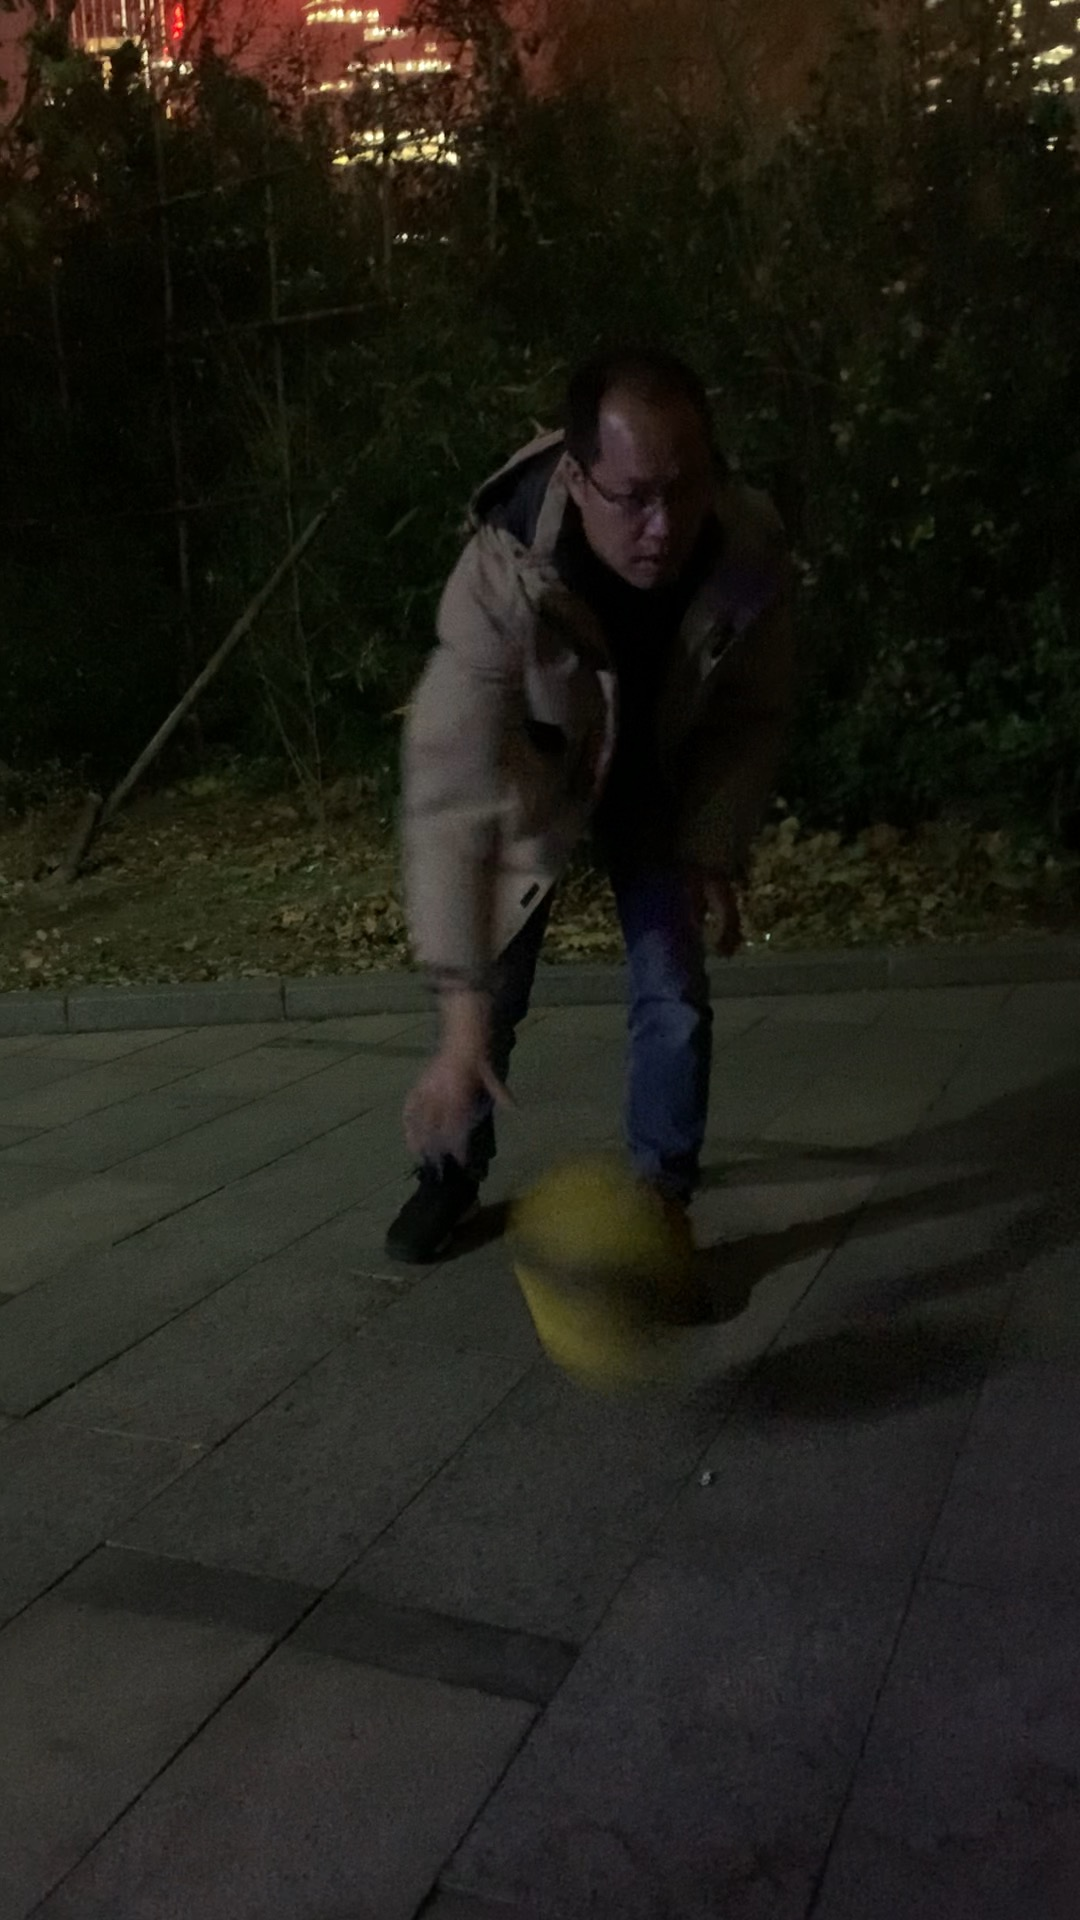ball: (512, 1163, 720, 1365)
